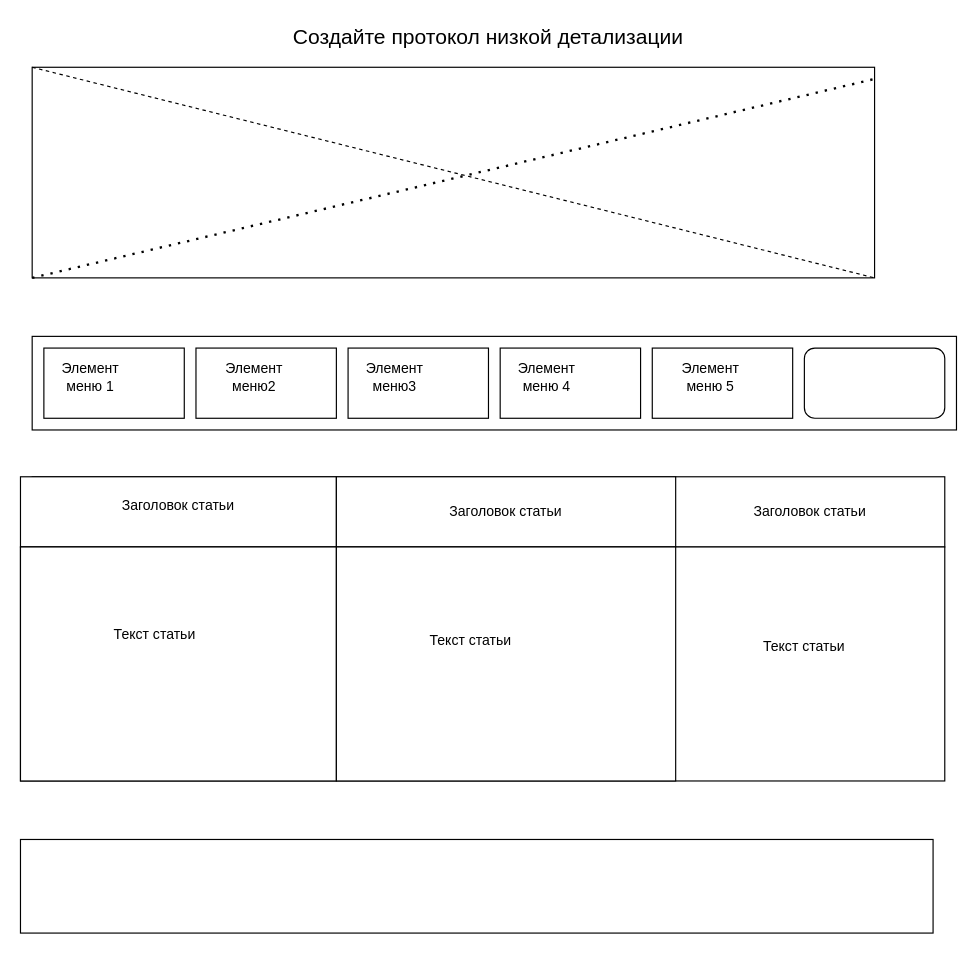
Some shapes in this 977 by 954 pixel diagram are drawn without their labels. The shapes that lost their labels are listed below. From the top down, each one's centre as x and y in pixels, then its label:
the point at 453,172: Название сайта
the point at 874,382: Search
the point at 476,885: Подвал
